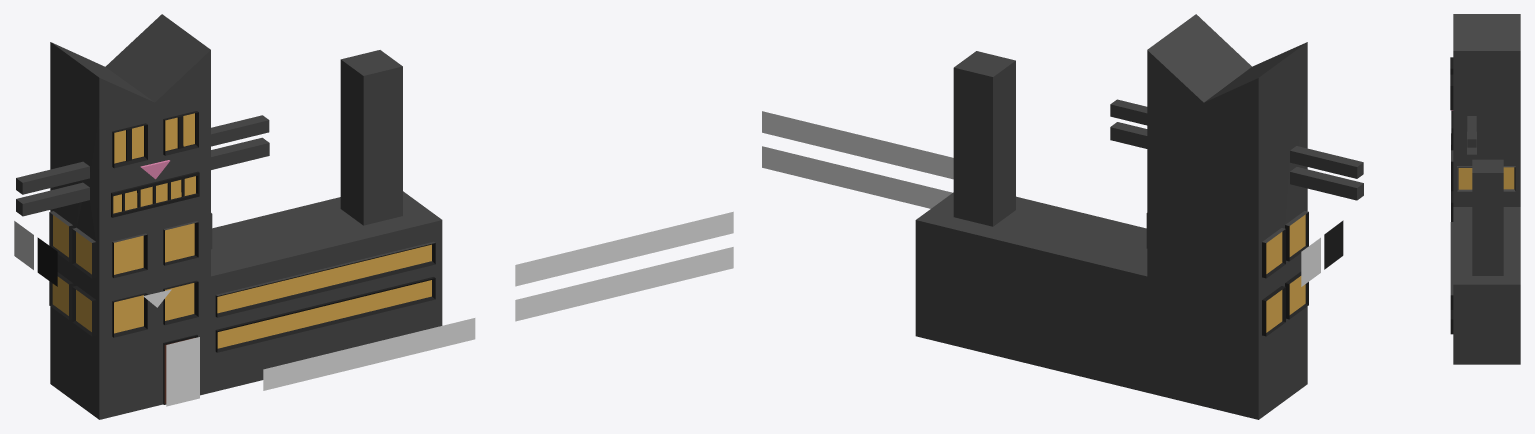
The model's file is building3_f.fbx.
The picture shows the model from 3 angles, left to right: view 1: azimuth 30°, elevation 25°; view 2: azimuth 150°, elevation 25°; view 3: azimuth 270°, elevation 25°; orthographic projection. The views are drawn at different scales.
Parts seen in each view (by area): view 1: Cube, bouche.001, bouche.002, bouche, porte, oeil_g, oeil_d; view 2: Cube, bouche.001, bouche.002, oeil_d, oeil_g; view 3: Cube.
Boxes of the visible parts, <box> form: Cube: <box>16,14,442,419</box>; bouche.001: <box>515,211,733,286</box>; bouche.002: <box>515,247,733,321</box>; bouche: <box>263,318,475,390</box>; porte: <box>166,337,199,406</box>; oeil_g: <box>37,237,57,286</box>; oeil_d: <box>14,221,33,269</box>; Cube: <box>915,14,1363,419</box>; bouche.001: <box>762,111,953,179</box>; bouche.002: <box>762,146,952,208</box>; oeil_d: <box>1301,237,1320,286</box>; oeil_g: <box>1324,220,1343,269</box>; Cube: <box>1450,14,1520,364</box>.
Size of the model in its own units: 22483 by 11224 by 5530.
